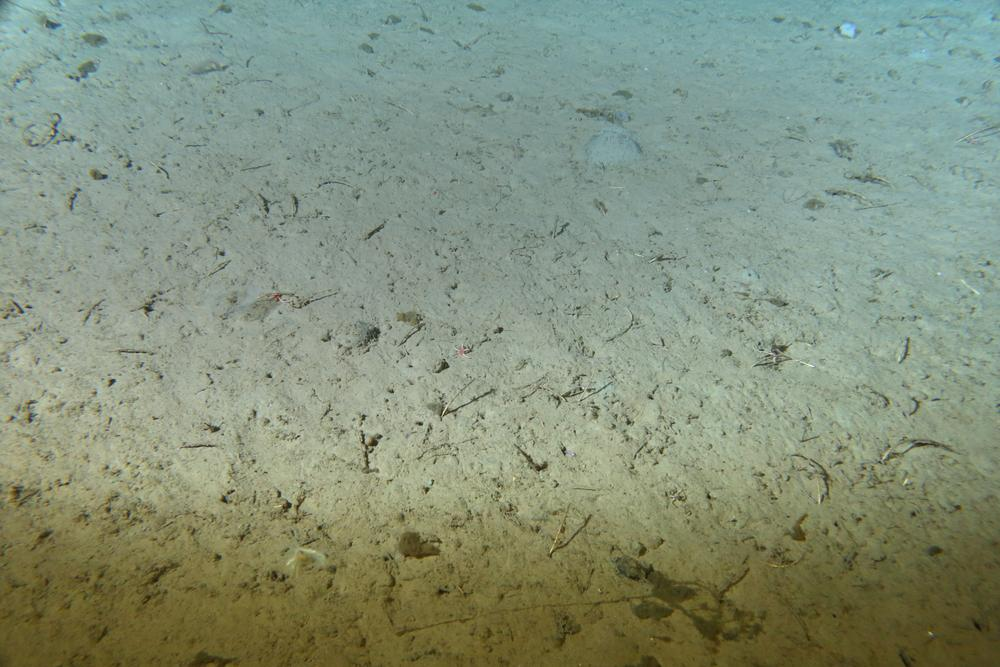Peniagone vitrea: (187, 58, 225, 76)
